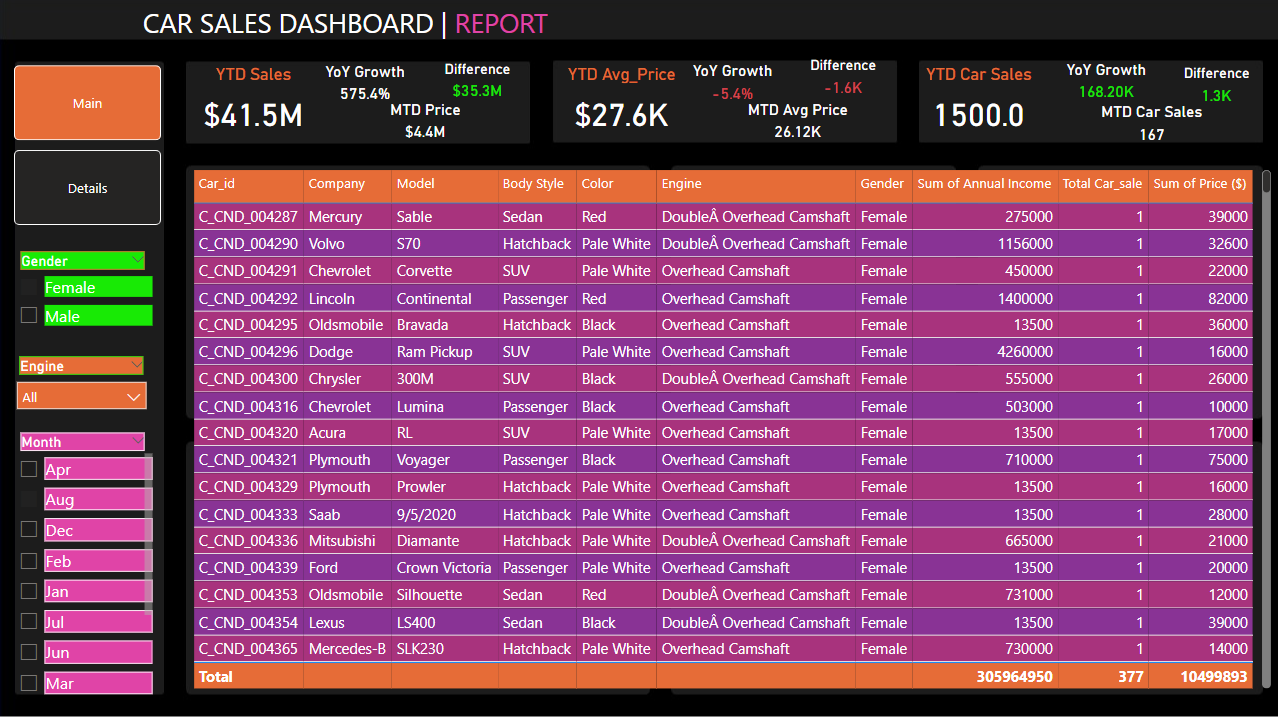

What the dashboard file says about the page in this screenshot:
{"tool":"powerbi","page":{"name":"Details","canvas":[1280,720],"ordinal":1},"visuals":[{"type":"card","title":"MTD Price","fields":{"Values":["car_data.MTD Price"]},"box":[359.3,101.5,135.5,42.7],"z":0},{"type":"card","title":"Difference","fields":{"Values":["car_data.Sales Difference"]},"box":[427.3,61.8,102,45.5],"z":1000},{"type":"card","title":"YTD Sales","fields":{"Values":["car_data.YTD Price"]},"box":[189.1,65.5,130.9,78.5],"z":2000},{"type":"textbox","box":[25.7,0,640,48.3],"z":3000},{"type":"card","title":"YoY Growth","fields":{"Values":["car_data.YoY Sales"]},"box":[312.2,64.2,107.3,44.5],"z":4000},{"type":"card","title":"YTD Avg_Price","fields":{"Values":["car_data.YTD Avg_price"]},"box":[556.4,64.5,132.4,78.2],"z":5000},{"type":"card","title":"YoY Growth","fields":{"Values":["car_data.YoY Avg_price"]},"box":[680,62.7,107.3,43.1],"z":6000},{"type":"card","title":"Difference","fields":{"Values":["car_data.Avg_price difference"]},"box":[800,57.3,88.2,41.1],"z":7000},{"type":"card","title":"MTD Avg Price","fields":{"Values":["car_data.MTD Avg_price"]},"box":[730.9,100.9,135.5,42.7],"z":8000},{"type":"card","title":"YTD Car Sales","fields":{"Values":["car_data.YTD Car_sales"]},"box":[920,64.5,119.1,78.2],"z":9000},{"type":"card","title":"Difference","fields":{"Values":["car_data.Difference Car_sale"]},"box":[1172.4,64.5,90.4,40.9],"z":10000},{"type":"card","title":"YoY Growth","fields":{"Values":["car_data.YoY Car_sales"]},"box":[1053.6,61.8,107.3,42.7],"z":11000},{"type":"card","title":"MTD Car Sales","fields":{"Values":["car_data.MTD Car_sales"]},"box":[1079.1,103.6,148.2,42.7],"z":12000},{"type":"pageNavigator","box":[15.5,66.5,147.5,161.2],"z":13000},{"type":"slicer","fields":{"Values":["car_data.Gender"]},"box":[9,248,150,95],"z":14000},{"type":"slicer","fields":{"Values":["car_data.Engine"]},"box":[8,352,150,73.8],"z":15000},{"type":"slicer","fields":{"Values":["Calendar.Month"]},"box":[8.8,428.8,150,276],"z":16000},{"type":"tableEx","fields":{"Values":["car_data.Car_id","car_data.Company","car_data.Model","car_data.Body Style","car_data.Color","car_data.Engine","car_data.Gender","Sum(car_data.Annual Income)","car_data.Total Car_sale","Sum(car_data.Price ($))"]},"box":[188.6,165.7,1088.3,528.6],"z":17000}]}

Visuals, with their boxes in screenshot pixels (x1, y1, x2, y2), scaled from the page's 1280x720 canvas onto the 1278x717 screenshot:
"MTD Price" card: box(359, 101, 494, 144)
"Difference" card: box(427, 62, 528, 107)
"YTD Sales" card: box(189, 65, 320, 143)
textbox: box(26, 0, 665, 48)
"YoY Growth" card: box(312, 64, 419, 108)
"YTD Avg_Price" card: box(556, 64, 688, 142)
"YoY Growth" card: box(679, 62, 786, 105)
"Difference" card: box(799, 57, 887, 98)
"MTD Avg Price" card: box(730, 100, 865, 143)
"YTD Car Sales" card: box(919, 64, 1037, 142)
"Difference" card: box(1171, 64, 1261, 105)
"YoY Growth" card: box(1052, 62, 1159, 104)
"MTD Car Sales" card: box(1077, 103, 1225, 146)
pageNavigator: box(15, 66, 163, 227)
slicer - car_data.Gender: box(9, 247, 159, 342)
slicer - car_data.Engine: box(8, 351, 158, 424)
slicer - Calendar.Month: box(9, 427, 159, 702)
tableEx - car_data.Car_id x car_data.Company: box(188, 165, 1275, 691)
